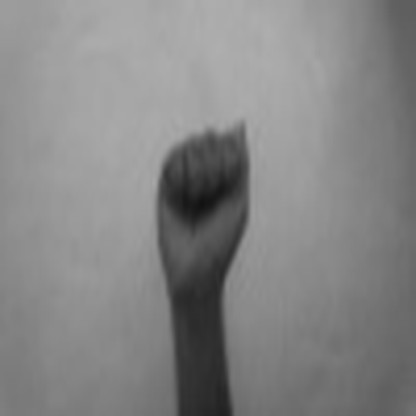a: (148, 104, 257, 287)
